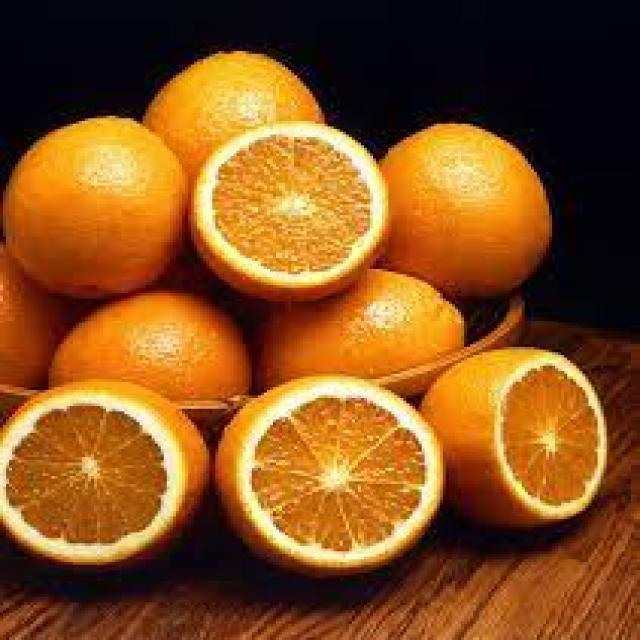Orange: (212, 371, 446, 578), (0, 376, 209, 567), (188, 118, 388, 301), (0, 112, 188, 298), (418, 344, 606, 530), (376, 120, 552, 298), (45, 288, 252, 425), (255, 266, 464, 396), (140, 48, 324, 183), (0, 248, 69, 384)
